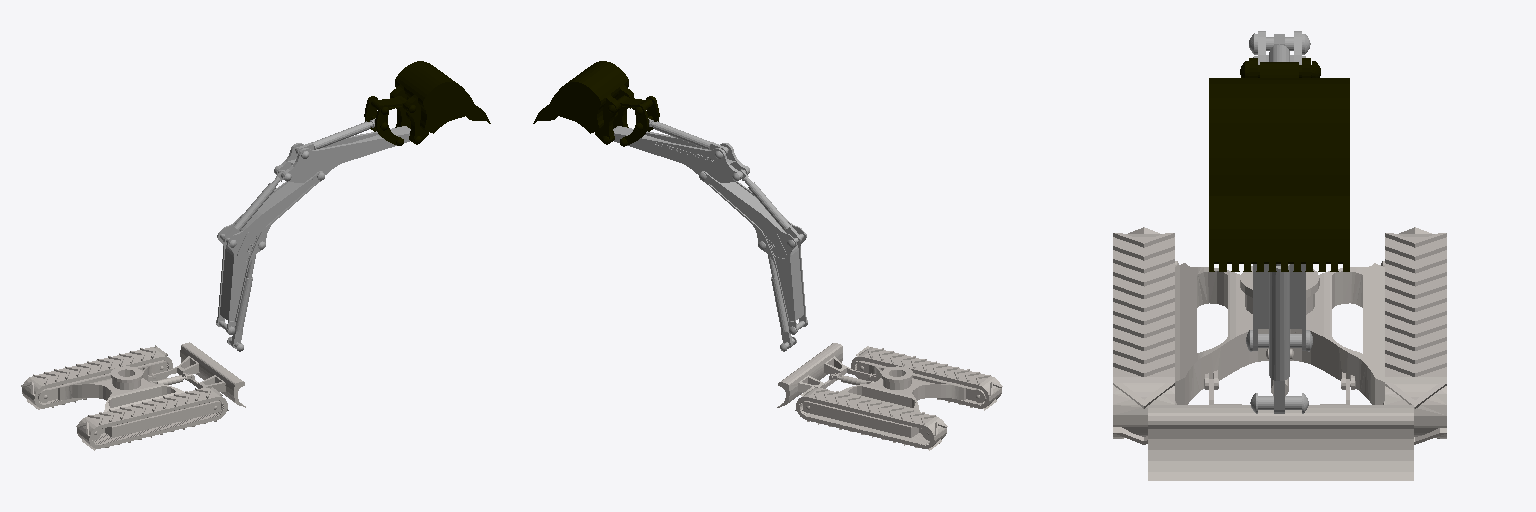
The robot description file, URDF, robot "excavator_JCB":
<?xml version="1.0" encoding="utf-8"?>
<!-- This URDF was automatically created by SolidWorks to URDF Exporter! Originally created by [author] ([email redacted]) 
     Commit Version: 1.6.0-4-g7f85cfe  Build Version: 1.6.7995.38578
     For more information, please see http://wiki.ros.org/sw_urdf_exporter -->
<robot
  name="excavator_JCB">
  <link
    name="base_link">
    <inertial>
      <origin
        xyz="0.4294466 0.0012485 0.0380234"
        rpy="0 0 0" />
      <mass
        value="1344.56" />
      <inertia
        ixx="488.8784"
        ixy="-1.551611"
        ixz="-14.97196"
        iyy="896.8346"
        iyz="-0.0436094"
        izz="1351.993" />
    </inertial>
    <visual>
      <origin
        xyz="0 0 0"
        rpy="0 0 0" />
      <geometry>
        <mesh
          filename="package://excavator_JCB/meshes/base_link.STL" />
      </geometry>
      <material
        name="">
        <color
          rgba="0.77647 0.75686 0.73725 1" />
      </material>
    </visual>
    <collision>
      <origin
        xyz="0 0 0"
        rpy="0 0 0" />
      <geometry>
        <mesh
          filename="package://excavator_JCB/meshes/base_link.STL" />
      </geometry>
    </collision>
  </link>
  <link
    name="body_yaw_link">
    <inertial>
      <origin
        xyz="0.1038247 0.0105464 0.3946706"
        rpy="0 0 0" />
      <mass
        value="6265.561" />
      <inertia
        ixx="2571.556"
        ixy="195.6274"
        ixz="69.32561"
        iyy="3687.875"
        iyz="-120.0013"
        izz="3929.211" />
    </inertial>
    <visual>
      <origin
        xyz="0 0 0"
        rpy="0 0 0" />
      <geometry>
        <mesh
          filename="package://excavator_JCB/meshes/body_yaw_link.STL" />
      </geometry>
      <material
        name="">
        <color
          rgba="0.89804 0.91765 0.92941 1" />
      </material>
    </visual>
    <collision>
      <origin
        xyz="0 0 0"
        rpy="0 0 0" />
      <geometry>
        <mesh
          filename="package://excavator_JCB/meshes/body_yaw_link.STL" />
      </geometry>
    </collision>
  </link>
  <joint
    name="body_yaw_joint"
    type="continuous">
    <origin
      xyz="0 0 0.36323"
      rpy="0 0 0" />
    <parent
      link="base_link" />
    <child
      link="body_yaw_link" />
    <axis
      xyz="0 0 1" />
  </joint>
  <link
    name="boom_pitch_link">
    <inertial>
      <origin
        xyz="0.4173408 -1.134166 -0.0415453"
        rpy="0 0 0" />
      <mass
        value="724.9529" />
      <inertia
        ixx="282.0599"
        ixy="118.3342"
        ixz="0.0157727"
        iyy="101.1092"
        iyz="-0.2015522"
        izz="371.1804" />
    </inertial>
    <visual>
      <origin
        xyz="0 0 0"
        rpy="0 0 0" />
      <geometry>
        <mesh
          filename="package://excavator_JCB/meshes/boom_pitch_link.STL" />
      </geometry>
      <material
        name="">
        <color
          rgba="0.69804 0.69804 0.69804 1" />
      </material>
    </visual>
    <collision>
      <origin
        xyz="0 0 0"
        rpy="0 0 0" />
      <geometry>
        <mesh
          filename="package://excavator_JCB/meshes/boom_pitch_link.STL" />
      </geometry>
    </collision>
  </link>
  <joint
    name="boom_pitch_joint"
    type="revolute">
    <origin
      xyz="1.5882 0.039526 0.36333"
      rpy="-1.5708 0 0" />
    <parent
      link="body_yaw_link" />
    <child
      link="boom_pitch_link" />
    <axis
      xyz="0 0 1" />
    <limit
      lower="0"
      upper="1.3703"
      effort="0"
      velocity="0" />
  </joint>
  <link
    name="forearm_pitch_link">
    <inertial>
      <origin
        xyz="0.3521181 -0.2255539 -0.328097"
        rpy="0 0 0" />
      <mass
        value="640.9527" />
      <inertia
        ixx="17.24723"
        ixy="14.701"
        ixz="-0.0567428"
        iyy="203.3294"
        iyz="-0.0303271"
        izz="211.0722" />
    </inertial>
    <visual>
      <origin
        xyz="0 0 0"
        rpy="0 0 0" />
      <geometry>
        <mesh
          filename="package://excavator_JCB/meshes/forearm_pitch_link.STL" />
      </geometry>
      <material
        name="">
        <color
          rgba="0.69804 0.69804 0.69804 1" />
      </material>
    </visual>
    <collision>
      <origin
        xyz="0 0 0"
        rpy="0 0 0" />
      <geometry>
        <mesh
          filename="package://excavator_JCB/meshes/forearm_pitch_link.STL" />
      </geometry>
    </collision>
  </link>
  <joint
    name="forearm_pitch_joint"
    type="revolute">
    <origin
      xyz="1.4233 -2.0381 0.28664"
      rpy="0 0 0" />
    <parent
      link="boom_pitch_link" />
    <child
      link="forearm_pitch_link" />
    <axis
      xyz="0 0 1" />
    <limit
      lower="0"
      upper="0.89604"
      effort="0"
      velocity="0" />
  </joint>
  <link
    name="bucket_pitch_link">
    <inertial>
      <origin
        xyz="0.1251231 -0.3655384 -0.6245874"
        rpy="0 0 0" />
      <mass
        value="652.5858" />
      <inertia
        ixx="71.85975"
        ixy="9.244171"
        ixz="0.1331334"
        iyy="143.6107"
        iyz="-0.0282737"
        izz="148.109" />
    </inertial>
    <visual>
      <origin
        xyz="0 0 0"
        rpy="0 0 0" />
      <geometry>
        <mesh
          filename="package://excavator_JCB/meshes/bucket_pitch_link.STL" />
      </geometry>
      <material
        name="">
        <color
          rgba="0.12157 0.12157 0 1" />
      </material>
    </visual>
    <collision>
      <origin
        xyz="0 0 0"
        rpy="0 0 0" />
      <geometry>
        <mesh
          filename="package://excavator_JCB/meshes/bucket_pitch_link.STL" />
      </geometry>
    </collision>
  </link>
  <joint
    name="bucket_pitch_joint"
    type="revolute">
    <origin
      xyz="1.4765 -0.24997 0.29735"
      rpy="0 0 0" />
    <parent
      link="forearm_pitch_link" />
    <child
      link="bucket_pitch_link" />
    <axis
      xyz="0 0 1" />
    <limit
      lower="0"
      upper="2.2837"
      effort="0"
      velocity="0" />
  </joint>
</robot>

--- Facts derived from the render (not from the file) ---
Views: 3 orthographic renders of the robot side by side, from view 1: azimuth 30°, elevation 25°; view 2: azimuth 150°, elevation 25°; view 3: azimuth 270°, elevation 25°.
Robot: excavator_JCB — 5 links, 4 joints (3 revolute, 1 continuous); root link base_link; default pose: every joint at zero.
Links seen in each view (by area): view 1: base_link, boom_pitch_link, bucket_pitch_link, forearm_pitch_link; view 2: base_link, boom_pitch_link, bucket_pitch_link, forearm_pitch_link; view 3: base_link, bucket_pitch_link, boom_pitch_link, forearm_pitch_link.
Boxes of the visible links, x1,y1,x2,y2 form: base_link: (21, 342, 245, 450); boom_pitch_link: (216, 170, 324, 351); bucket_pitch_link: (364, 61, 490, 145); forearm_pitch_link: (274, 118, 410, 182); base_link: (777, 343, 1002, 450); boom_pitch_link: (700, 169, 807, 351); bucket_pitch_link: (533, 61, 659, 146); forearm_pitch_link: (613, 118, 749, 182); base_link: (1113, 227, 1446, 480); bucket_pitch_link: (1209, 58, 1349, 271); boom_pitch_link: (1246, 264, 1312, 413); forearm_pitch_link: (1249, 31, 1310, 64).
Bounding box of the posed robot: 6.82 × 1.89 × 4.08 m (x, y, z).
Meshes: 5 distinct files referenced, 4 mesh visuals loaded (4 binary STL); not drawn: 1 (reference not matched to a file when rendering).